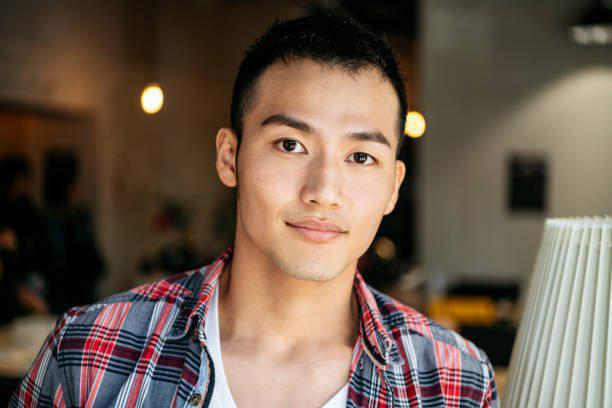Sober: (254, 76, 392, 268)
